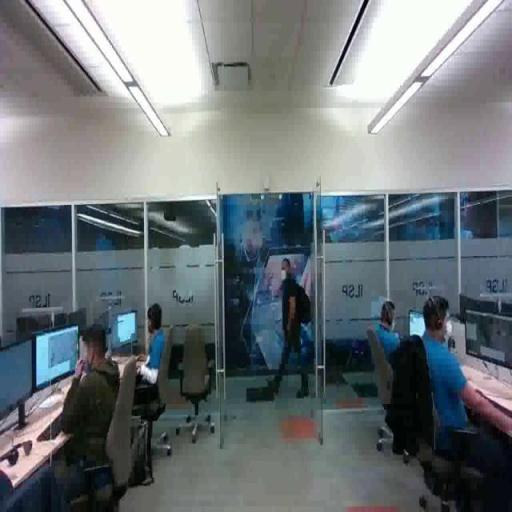person: (22, 323, 124, 510), (410, 293, 509, 468), (121, 303, 186, 436), (368, 298, 422, 442), (269, 257, 312, 403)
